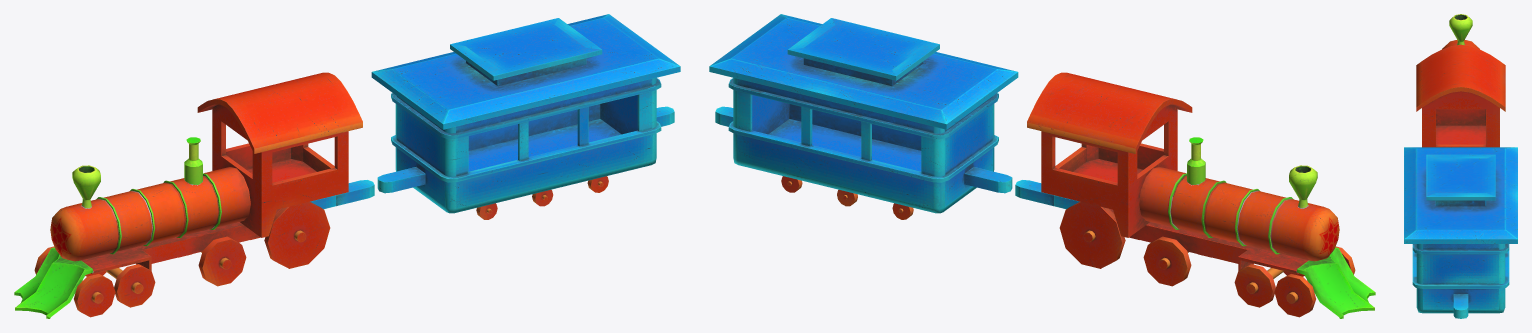
3 renders of one model, left to right at view 1: azimuth 30°, elevation 25°; view 2: azimuth 150°, elevation 25°; view 3: azimuth 270°, elevation 25°, orthographic. The views are drawn at different scales.
Visible parts, largest first — view 1: toytrain_02, toytrain_01; view 2: toytrain_02, toytrain_01; view 3: toytrain_02, toytrain_01.
Boxes of the visible parts, x1,y1,x2,y2 form: toytrain_02: (371,14,680,219); toytrain_01: (14,72,374,318); toytrain_02: (709,14,1018,219); toytrain_01: (1015,72,1375,318); toytrain_02: (1404,147,1517,318); toytrain_01: (1416,14,1505,147).
Bounding box in the file's own units: 0.7672 × 0.1801 × 0.1444.
Materials: 1 (1 with a texture image).
